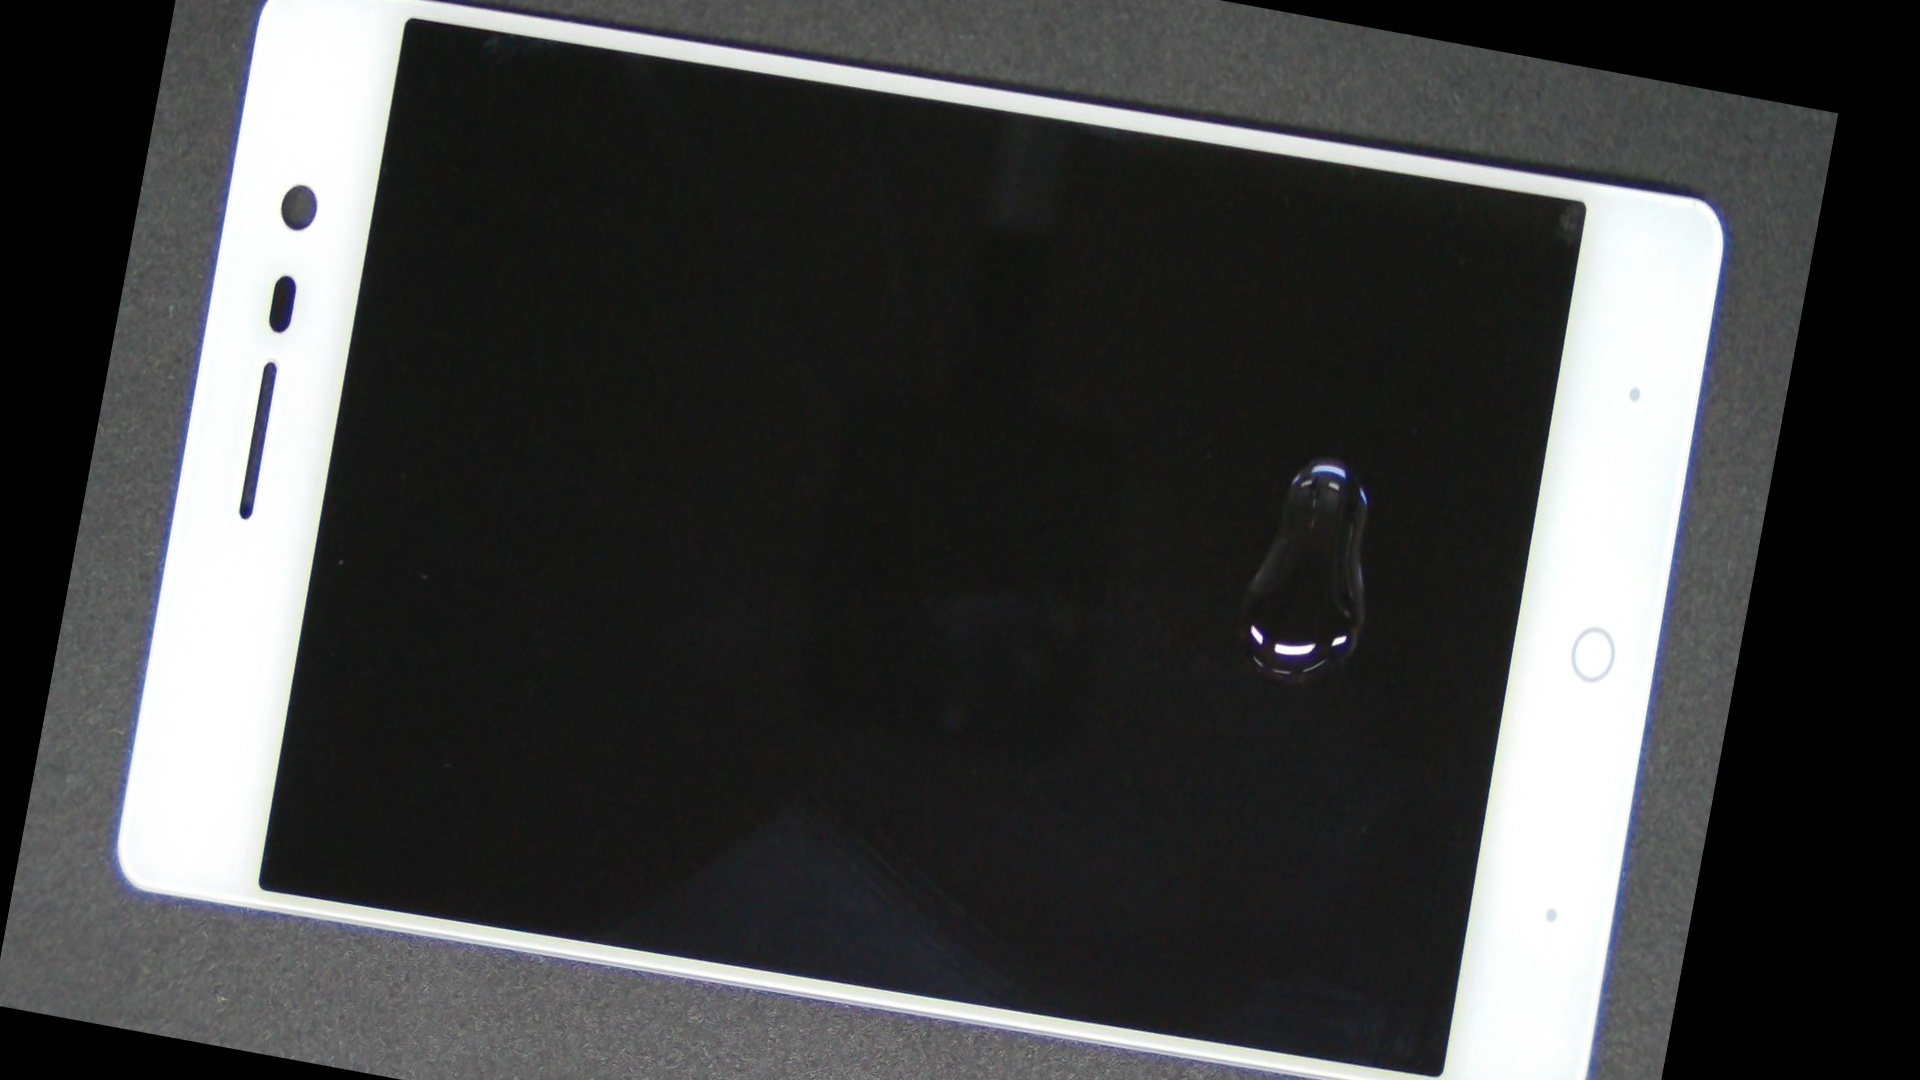oil: (692, 136, 1800, 746)
